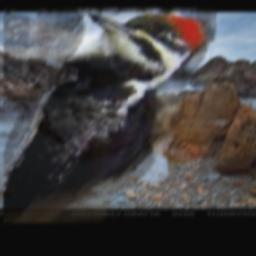Woodpecker: (2, 8, 215, 223)
